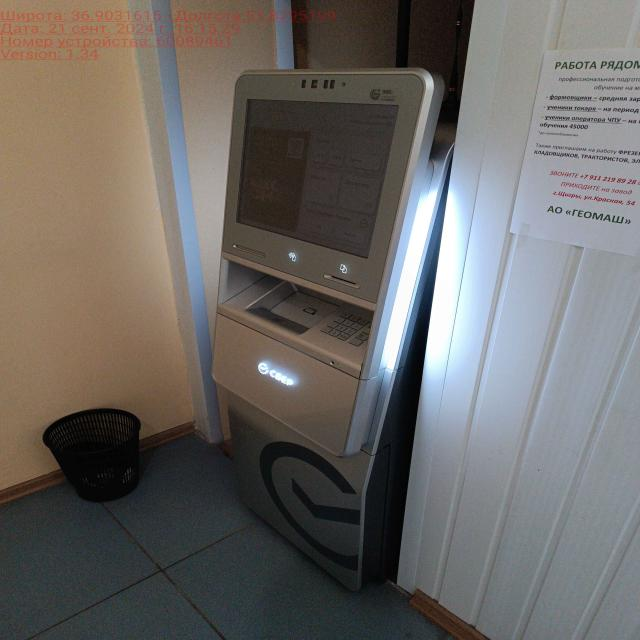bank: (212, 74, 454, 586)
